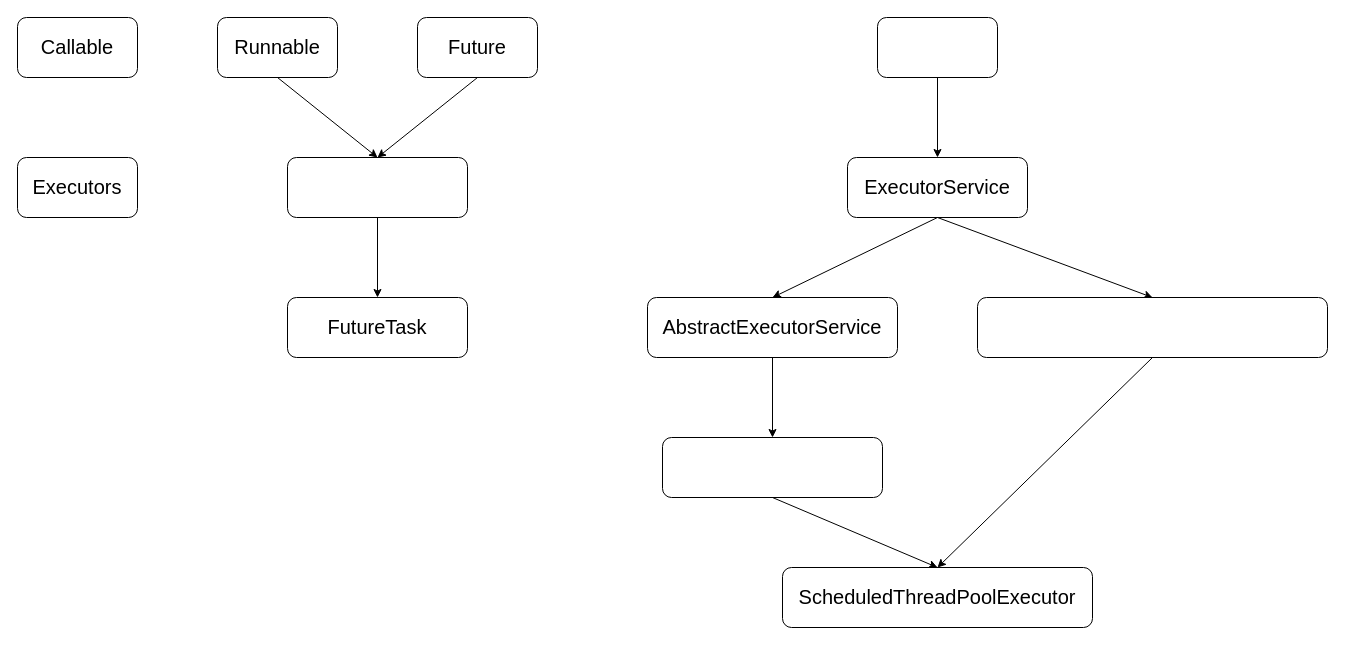
Some shapes in this 1345 by 645 pixel diagram are drawn without their labels. Here are the shapes that lost their labels. From the top down, the centre of each, then its label:
At pixel 937 47: "Executor".
At pixel 377 187: "RunnableFuture".
At pixel 1152 327: "ScheduledAbstractExecutorService".
At pixel 772 467: "ThreadPoolExecutor".
